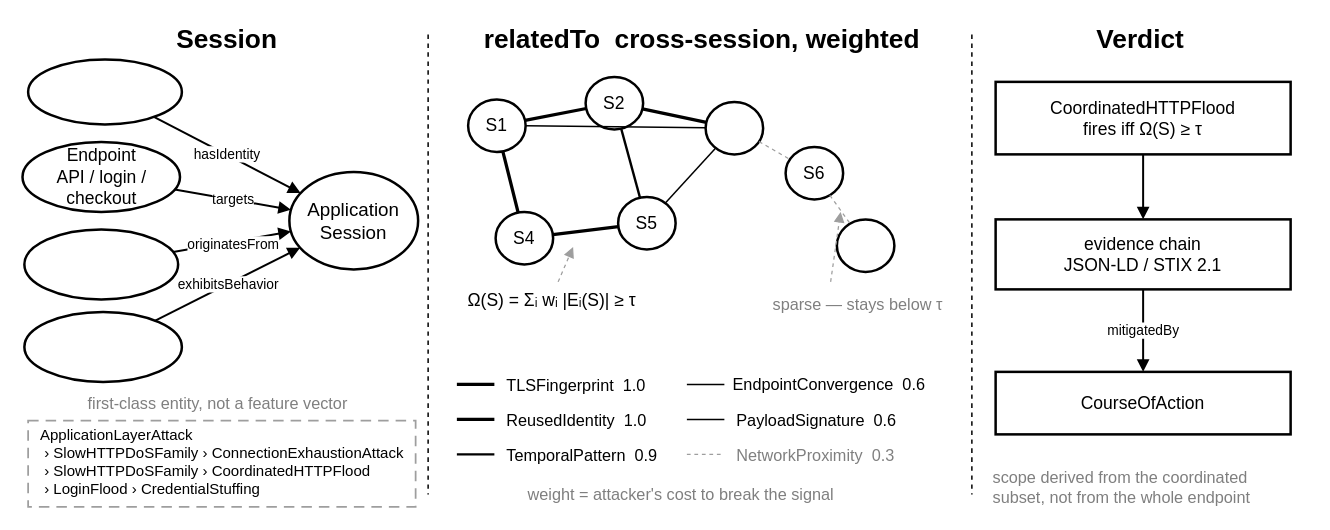
Image size: 1330x530. Some labels were removed from this diagram. Here are the shapes that lost their labels. From the top down, the centre of each, then its label:
At (104,91): "Identity cookie / token / JA4".
At (734,127): "S3".
At (100,264): "IPAddress / ASN".
At (865,245): "S7".
At (102,346): "Behavior BotBehavior".
